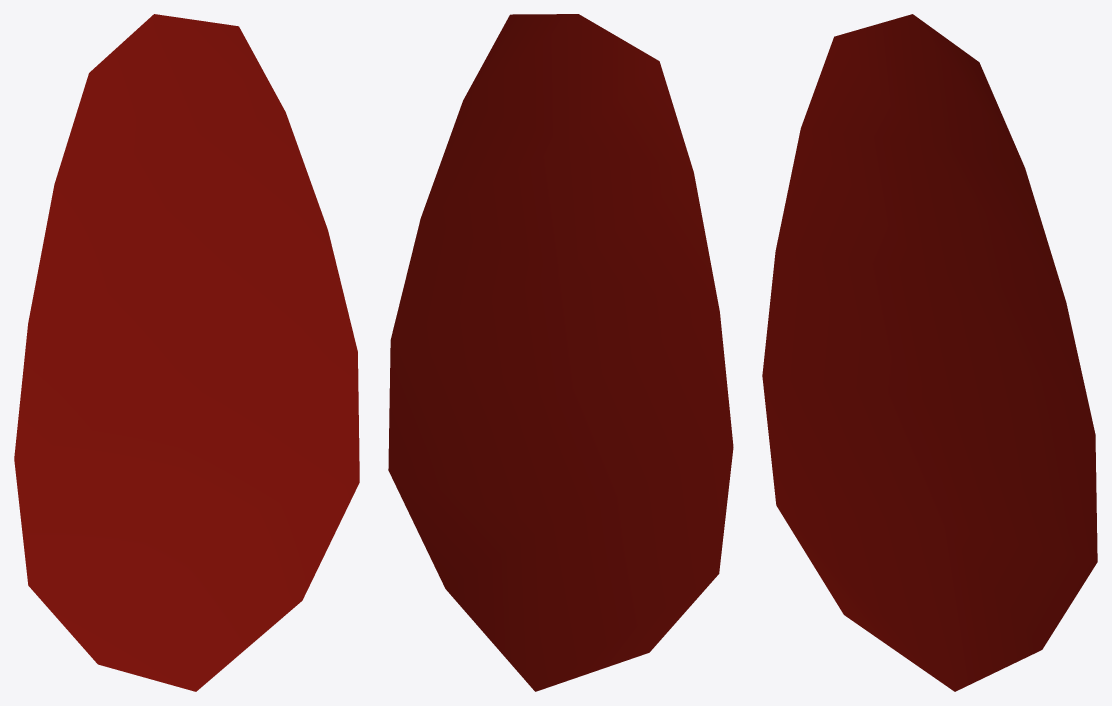
File: ara_feather_flight_tertiary_045.obj
The picture shows the model from 3 angles, left to right: view 1: azimuth 30°, elevation 25°; view 2: azimuth 150°, elevation 25°; view 3: azimuth 330°, elevation 25°; orthographic projection. The views are drawn at different scales.
Parts seen in each view (by area): view 1: feather_flight_tertiary_045; view 2: feather_flight_tertiary_045; view 3: feather_flight_tertiary_045.
Boxes of the visible parts, <box> form: feather_flight_tertiary_045: <box>14,14,359,691</box>; feather_flight_tertiary_045: <box>388,14,733,691</box>; feather_flight_tertiary_045: <box>762,14,1097,691</box>.
Bounding box in the file's own units: 0.018 × 0.0342 × 0.00079.
